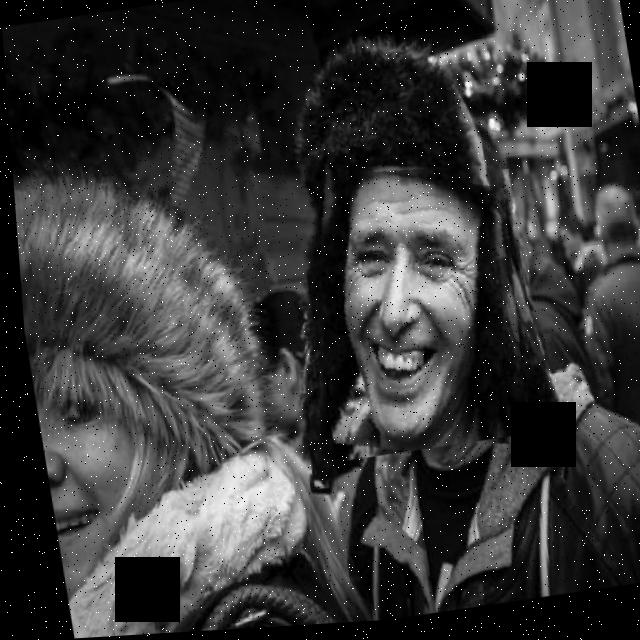happy: (286, 150, 538, 466)
